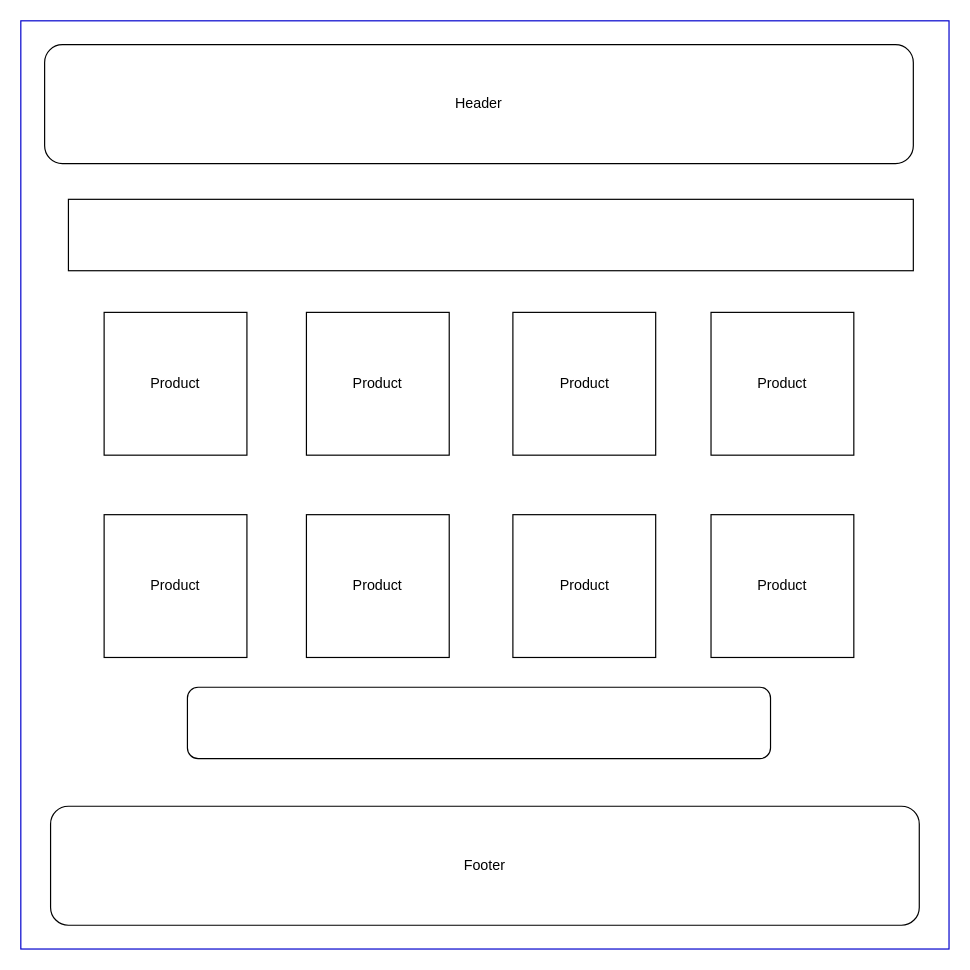
Image size: 970x970. Some labels were removed from this diagram. Here are the shapes that lost their labels. From the top down, the centre of each, then its label:
At (x=490, y=234): "Filter and Search Product".
At (x=478, y=722): "Barre de navigation".
